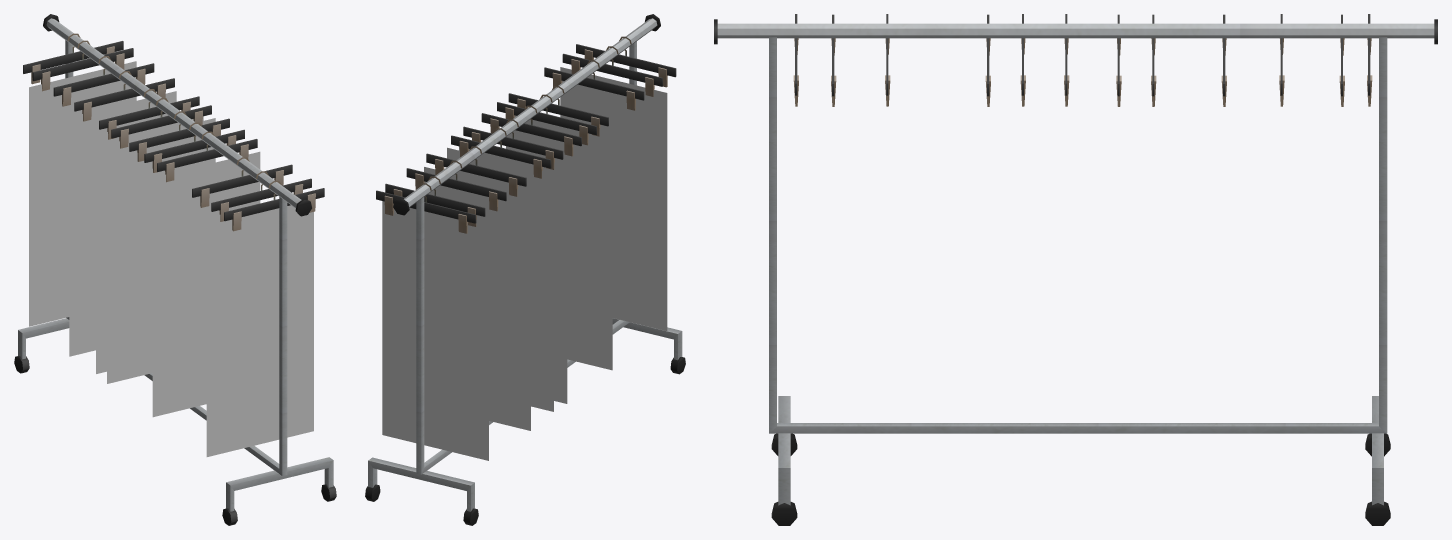
The model's file is Cloth_Rack_07.FBX.
The picture shows the model from 3 angles, left to right: view 1: azimuth 30°, elevation 25°; view 2: azimuth 150°, elevation 25°; view 3: azimuth 270°, elevation 25°; orthographic projection. The views are drawn at different scales.
Parts seen in each view (by area): view 1: Cloth_Rack_07; view 2: Cloth_Rack_07; view 3: Cloth_Rack_07.
Boxes of the visible parts, bbox=[...] form: Cloth_Rack_07: bbox=[14, 14, 336, 525]; Cloth_Rack_07: bbox=[365, 14, 685, 525]; Cloth_Rack_07: bbox=[714, 14, 1437, 525].
Bounding box in the file's own units: 0.487 × 1.96 × 1.4.
